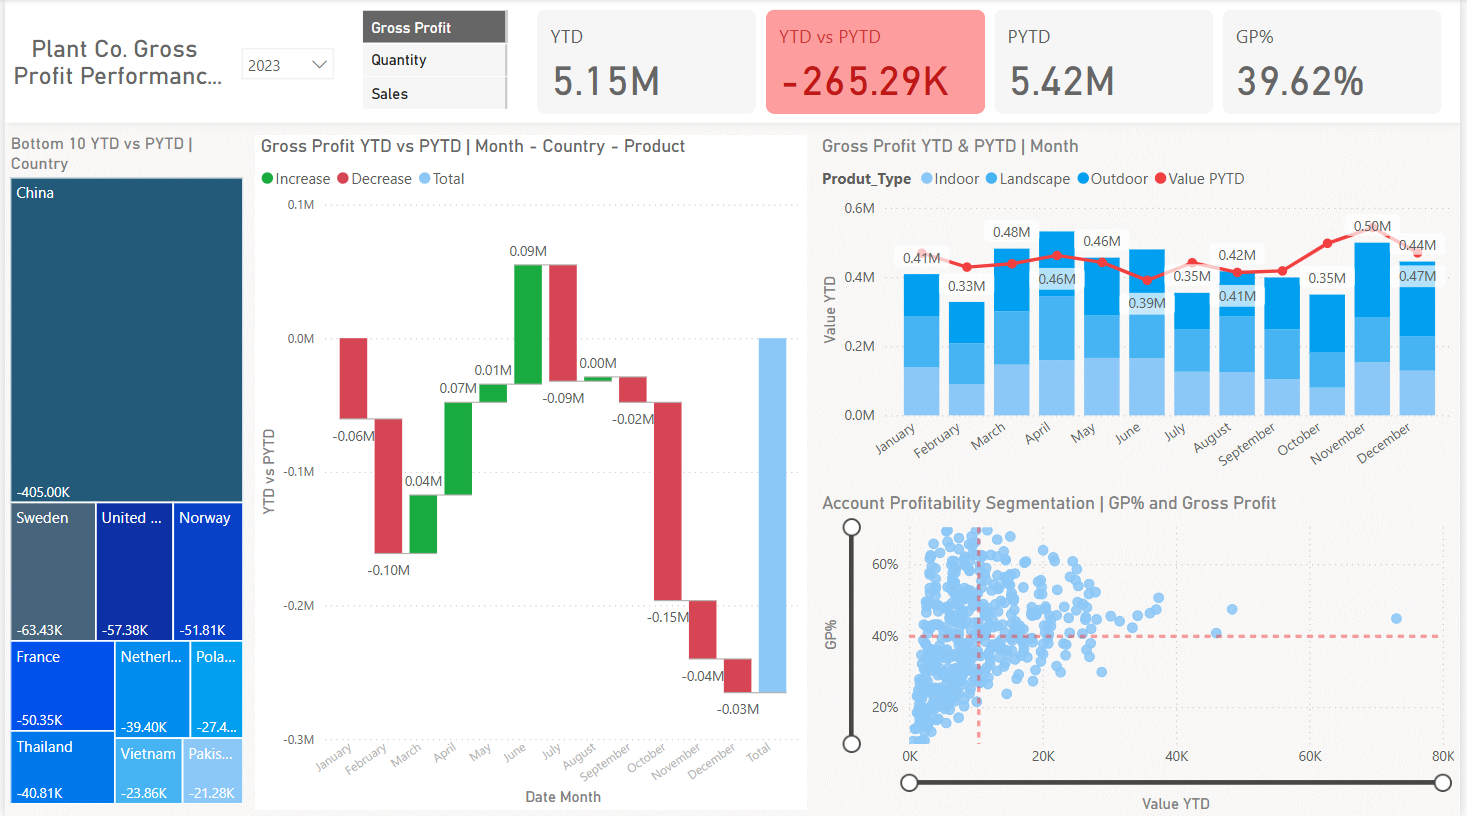

This screenshot's page, from the dashboard's own definition file:
{"tool":"powerbi","page":{"name":"Performance Report","canvas":[1280,720],"ordinal":0},"visuals":[{"type":"cardVisual","fields":{"Data":["_Measures.S_YTD","_Measures.YTD vs PYTD","_Measures.S_PYTD","_Measures.GP%"]},"box":[463,4.2,806.2,102.1],"z":0},{"type":"advancedSlicerVisual","fields":{"Values":["Slc_Values.Values"]},"box":[309.8,5.9,137.3,98],"z":1000},{"type":"slicer","fields":{"Values":["Dim_Date.Date.Variation.Date Hierarchy.Year"]},"box":[198.4,32.7,101.3,50.2],"z":2000},{"type":"treemap","title":"Bottom 10 YTD vs PYTD | Country","fields":{"Values":["_Measures.YTD vs PYTD"],"Group":["Dim_Account.country"]},"box":[0,118.7,214.6,594.4],"z":3000},{"type":"waterfallChart","fields":{"Y":["_Measures.YTD vs PYTD"],"Category":["Dim_Date.Date.Variation.Date Hierarchy.Month","Dim_Account.country","Dim_Product.Produt_Type","Dim_Product.Product_Name"]},"box":[220.3,119.6,485.2,593.5],"z":4000},{"type":"lineStackedColumnComboChart","fields":{"Y":["_Measures.S_YTD"],"Y2":["_Measures.S_PYTD"],"Category":["Dim_Date.Date.Variation.Date Hierarchy.Quarter","Dim_Date.Date.Variation.Date Hierarchy.Month"],"Series":["Dim_Product.Produt_Type"]},"box":[714.1,119.6,565.9,314.3],"z":5000},{"type":"scatterChart","fields":{"Y":["_Measures.GP%"],"X":["_Measures.S_YTD"],"Category":["Dim_Account.Account"]},"box":[714.1,433.9,565.9,285.8],"z":6000},{"type":"card","fields":{"Values":["_Measures._Report title"]},"box":[0,20.9,198.5,68.4],"z":7000}]}

Visuals, with their boxes in screenshot pixels (x1, y1, x2, y2), scaled from the page's 1280x720 canvas onto the 1467x816 screenshot:
cardVisual - _Measures.S_YTD x _Measures.YTD vs PYTD: <bbox>531, 5, 1455, 120</bbox>
advancedSlicerVisual - Slc_Values.Values: <bbox>355, 7, 512, 118</bbox>
slicer - Dim_Date.Date.Variation.Date Hierarchy.Year: <bbox>227, 37, 343, 94</bbox>
"Bottom 10 YTD vs PYTD | Country" treemap: <bbox>0, 135, 246, 808</bbox>
waterfallChart - _Measures.YTD vs PYTD x Dim_Date.Date.Variation.Date Hierarchy.Month: <bbox>252, 136, 809, 808</bbox>
lineStackedColumnComboChart - _Measures.S_YTD x _Measures.S_PYTD: <bbox>818, 136, 1466, 492</bbox>
scatterChart - _Measures.GP% x _Measures.S_YTD: <bbox>818, 492, 1466, 815</bbox>
card - _Measures._Report title: <bbox>0, 24, 227, 101</bbox>
